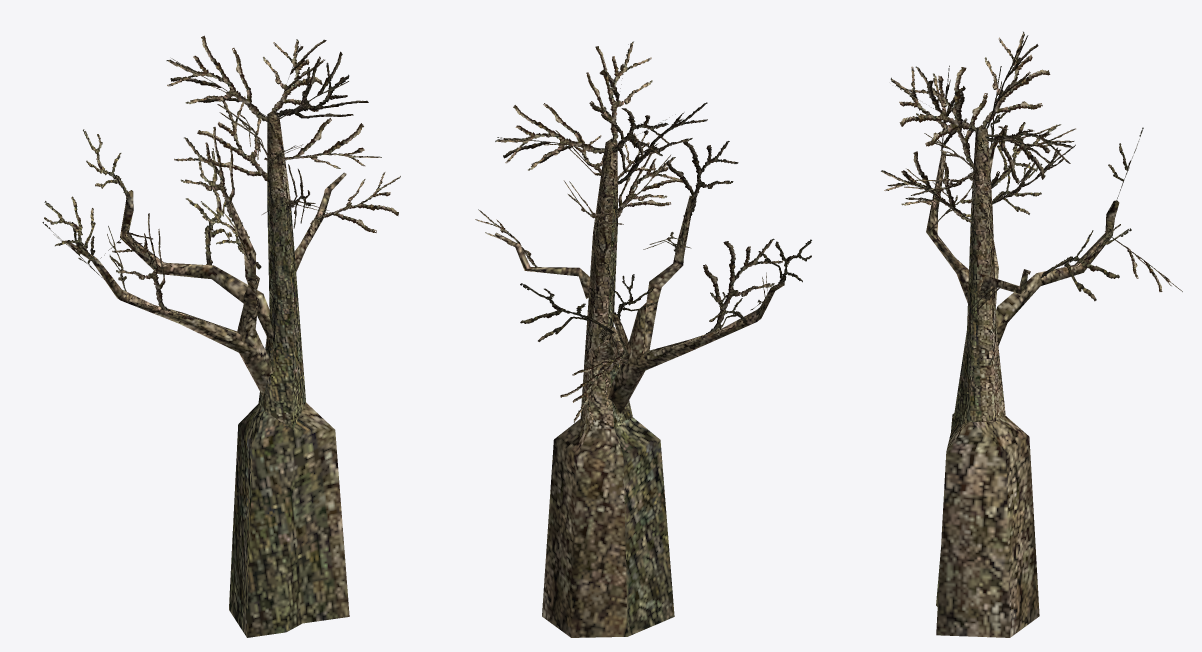
Rendered from roble_seco_b.glb.
3 views of the same model, side by side, from view 1: azimuth 30°, elevation 25°; view 2: azimuth 150°, elevation 25°; view 3: azimuth 270°, elevation 25° (orthographic). The views are drawn at different scales.
Parts seen in each view (by area): view 1: Modelo; view 2: Modelo; view 3: Modelo.
Part boxes in pixels (box(x1,y1,x2,y2)): Modelo: box(42, 35, 400, 637); Modelo: box(475, 41, 811, 637); Modelo: box(881, 31, 1182, 637).
Size of the model in its own units: 8.61 by 12.75 by 6.53.
Materials: 1 (1 with a texture image).
